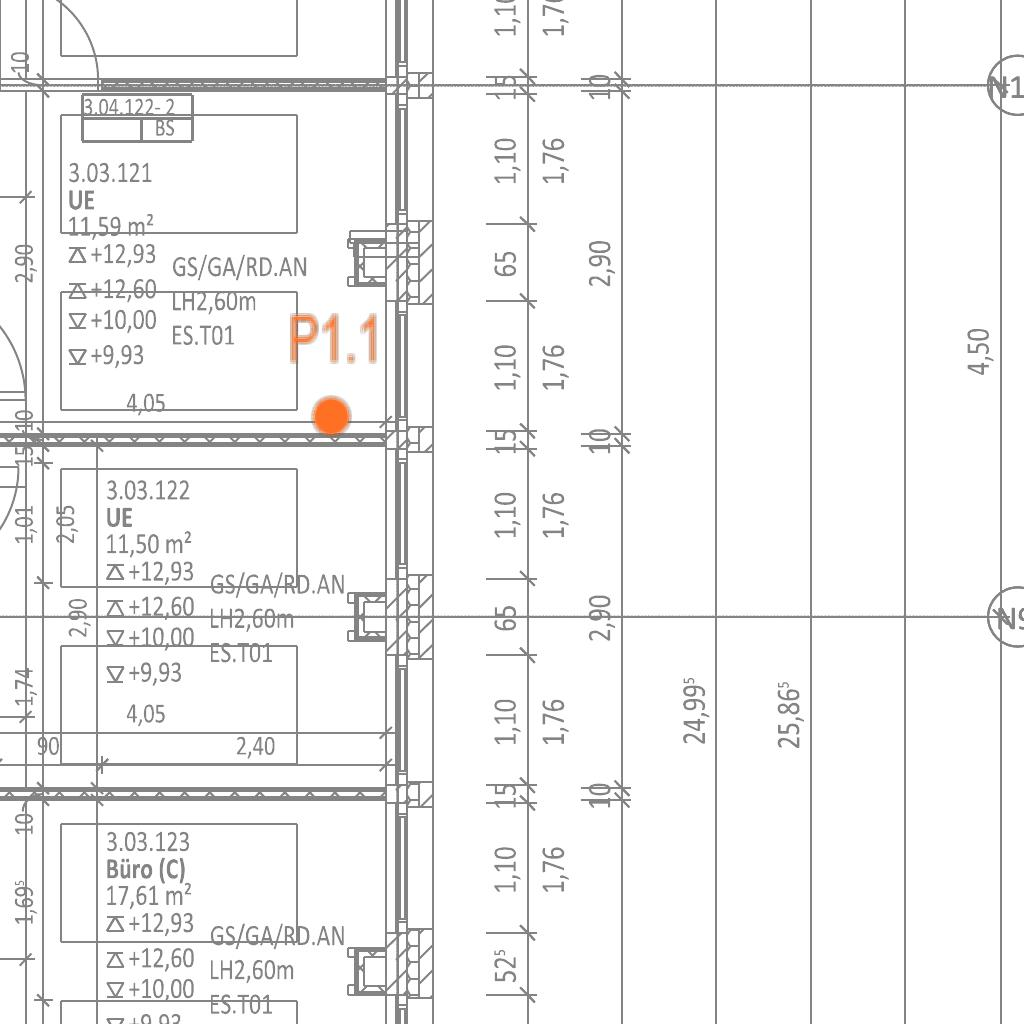Downlight_LED_Einbauleuchten_Flur_2: (288, 311, 381, 439)
